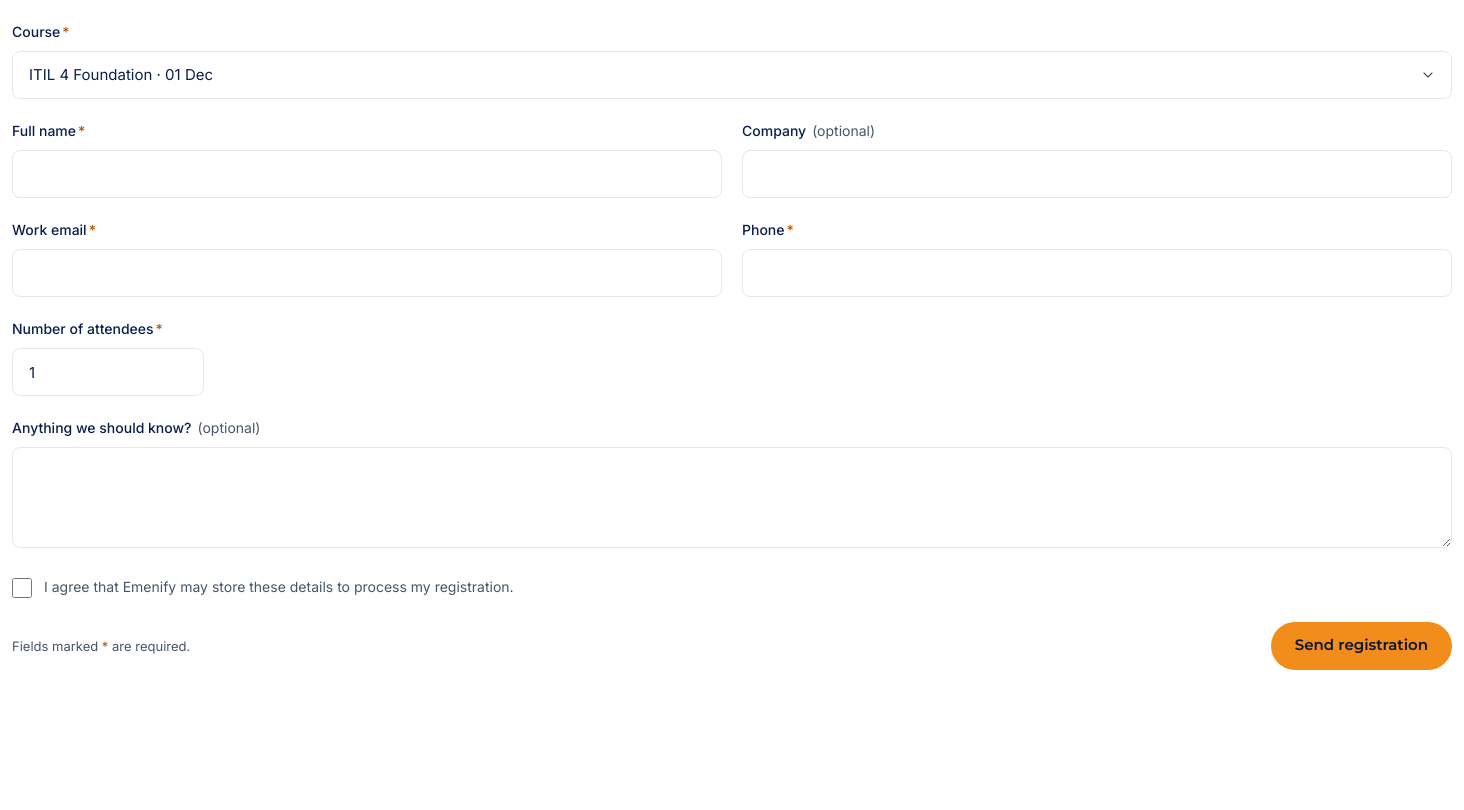
Scenario: TrainingEnquiryForm › prefills the event and submits valid data
This screenshot has width=1464, height=810.
Expected: the dropdown labelled "Course*" shows "ITIL 4 Foundation · 01 Dec", [12,51,1452,99]
Type "Priya Nair" into the field labelled "Full name*" at (367, 174), box [12,150,722,198]
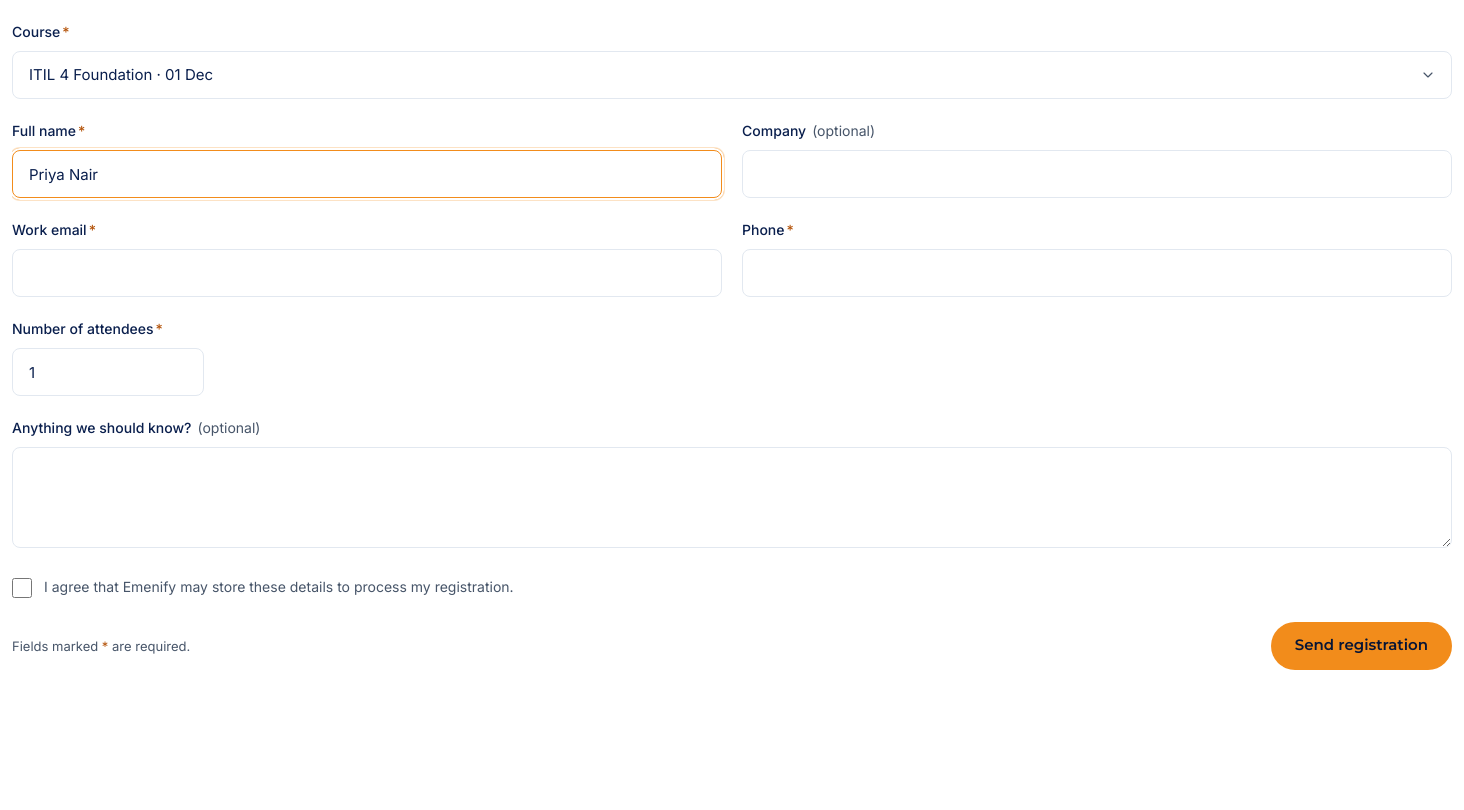
Type "priya@example.com" into the field labelled "Work email*" at (367, 273), box [12,249,722,297]
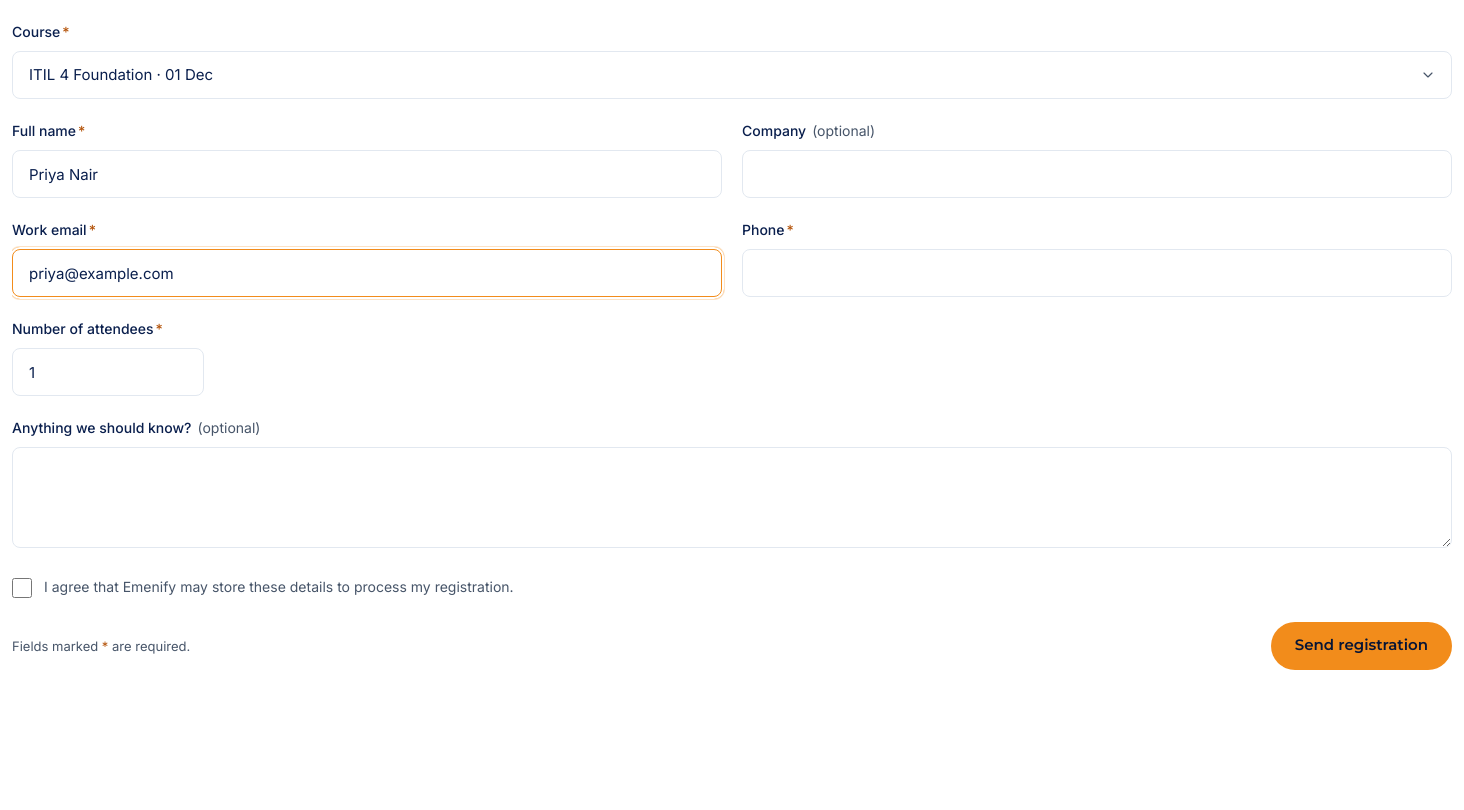
Type "+971 4 555 0101" into the field labelled "Phone*" at (1097, 273), box [742,249,1452,297]
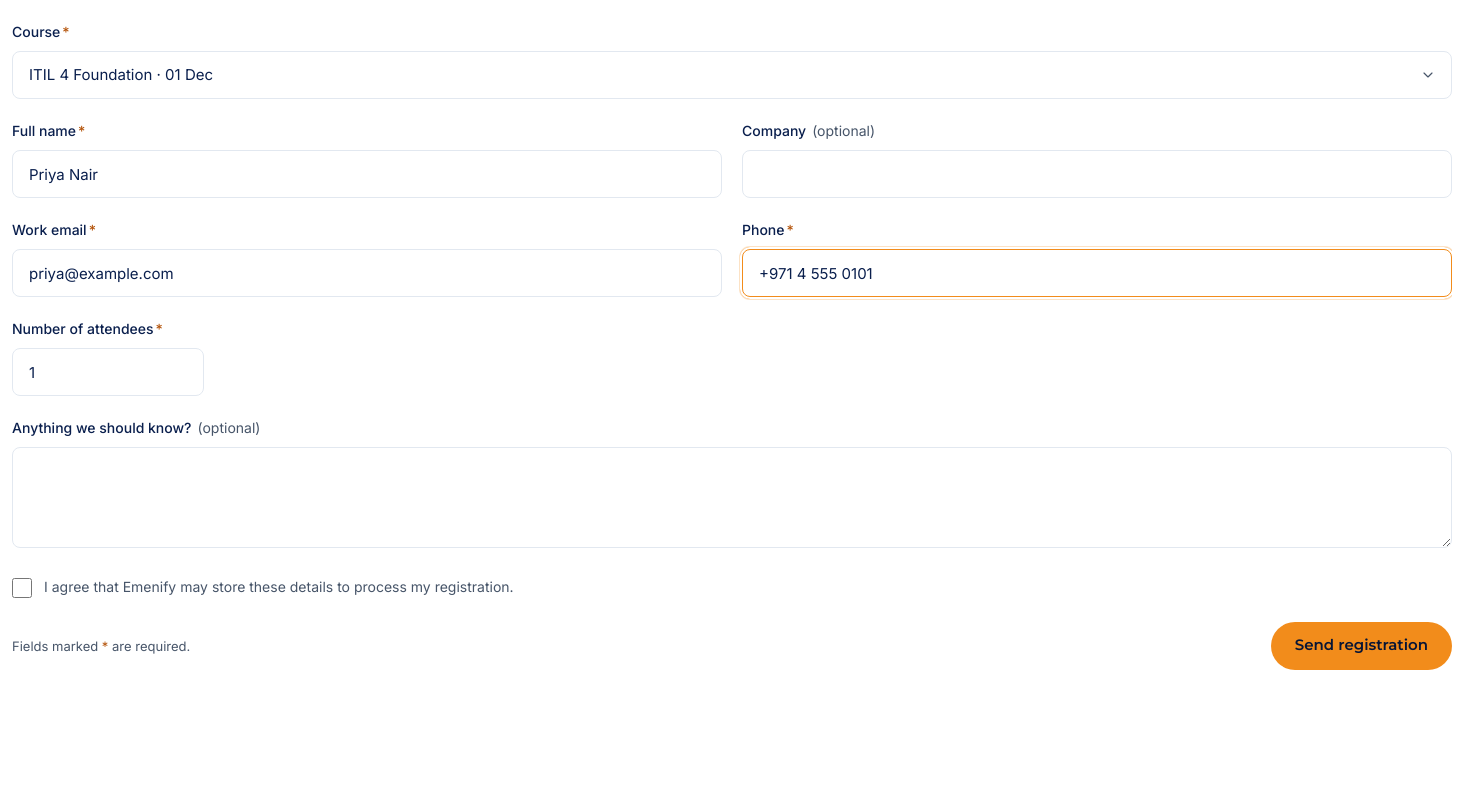
Click the checkbox labelled "I agree" at (22, 588), box [12,578,32,598]
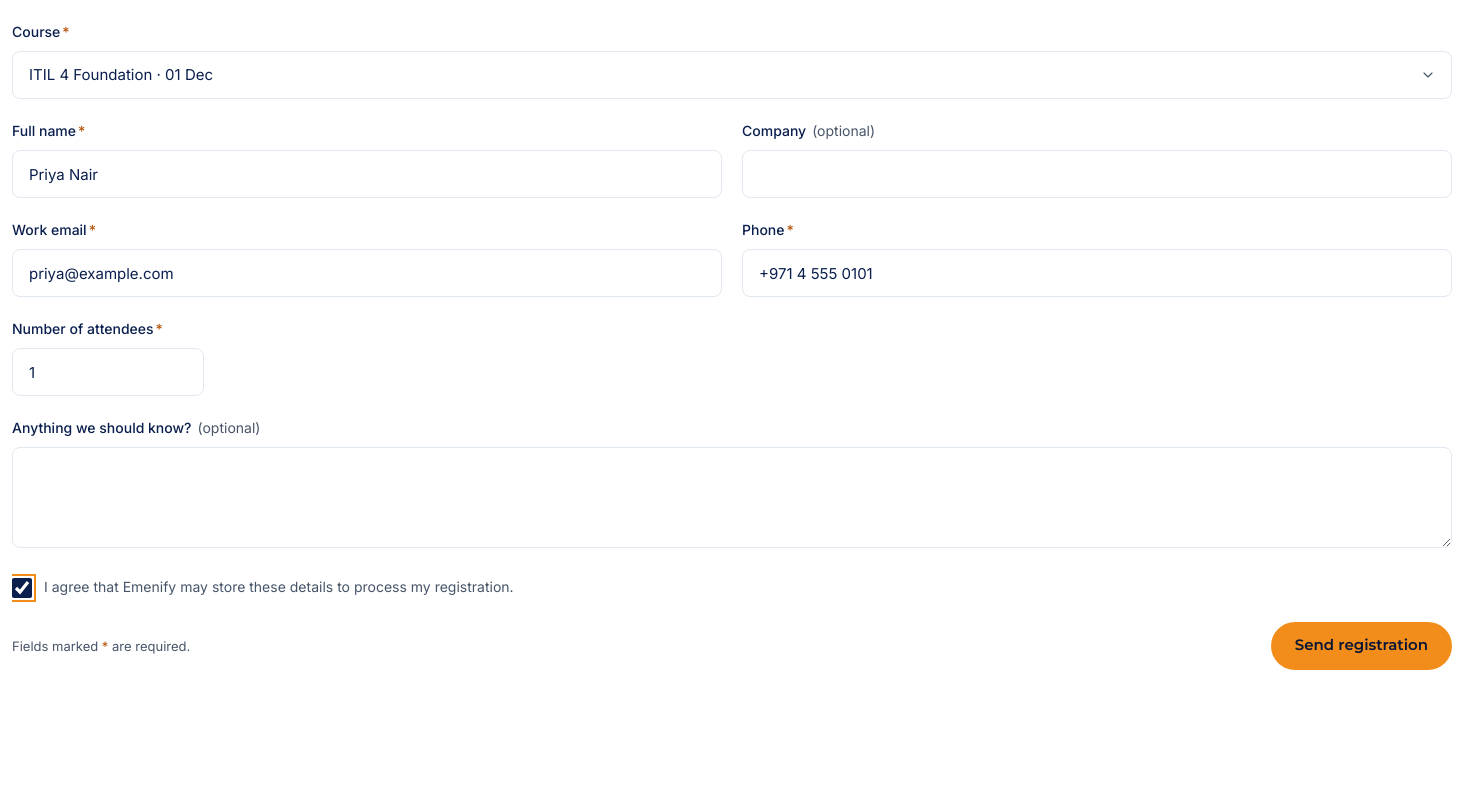
Click the button "Send registration" at (1361, 646), box [1271,622,1452,670]
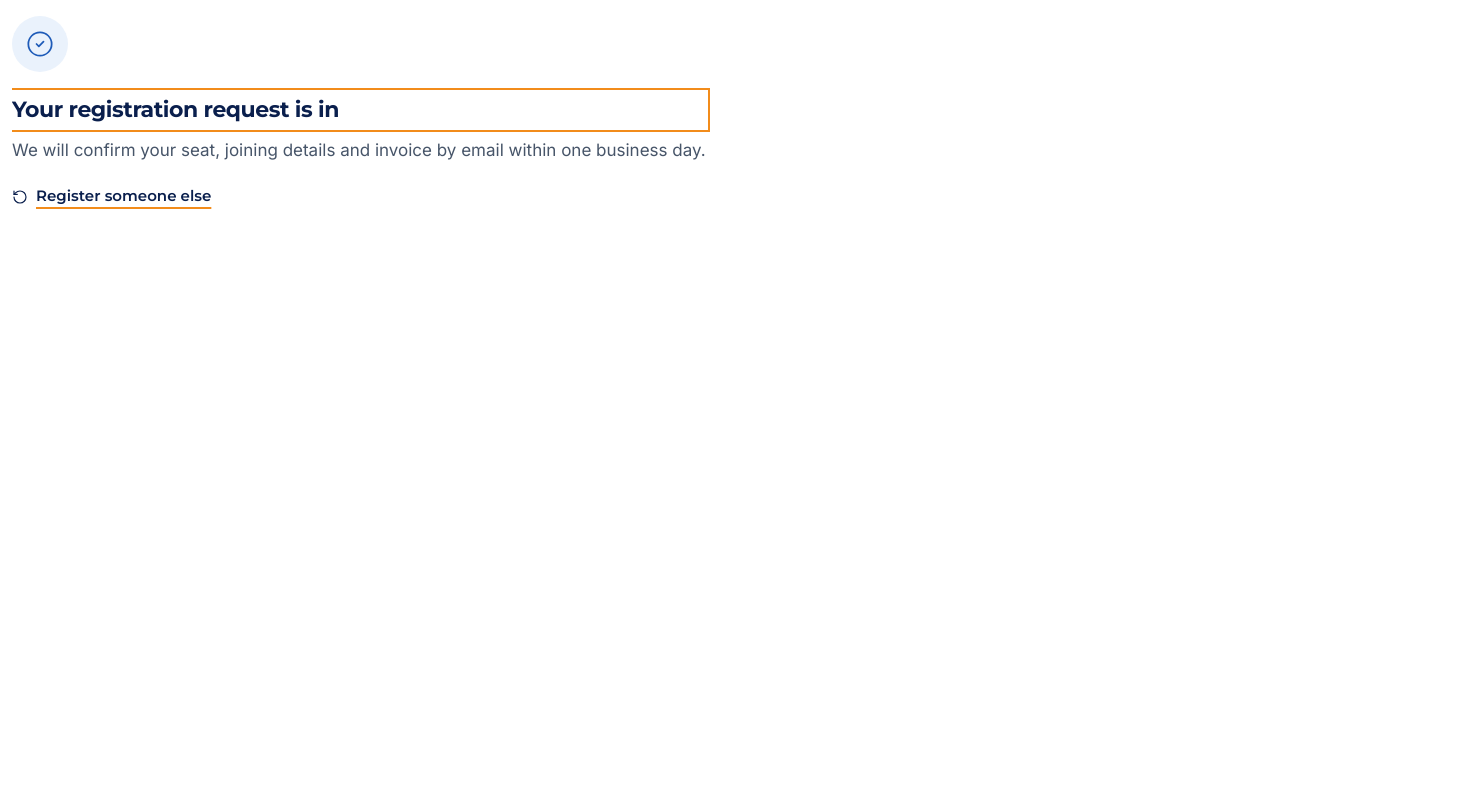
Now the heading "Your registration request is in" is shown, box [12,92,706,128]
